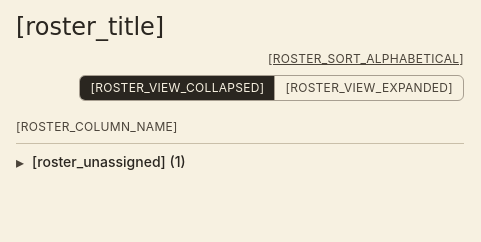
Test: #232 — the three primary routes load to their ready state › /roster reaches its ready DOM with no failure branch
Click the button with test id "section-toggle-unassigned" at (109, 162), box 16,144 -> 464,180
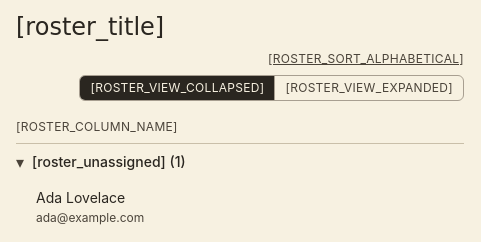
Expected: the element with test id "roster-row-name" reads "Ada Lovelace", 36,189 -> 125,206
